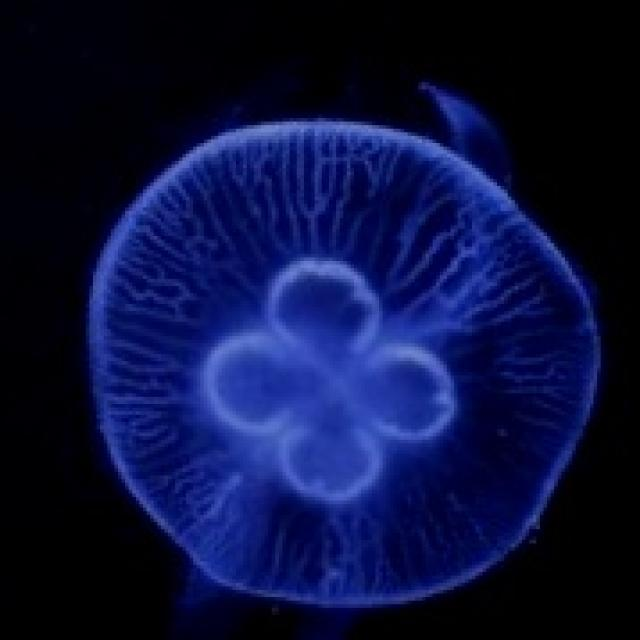Moon-jellyfish: (82, 89, 601, 608)
